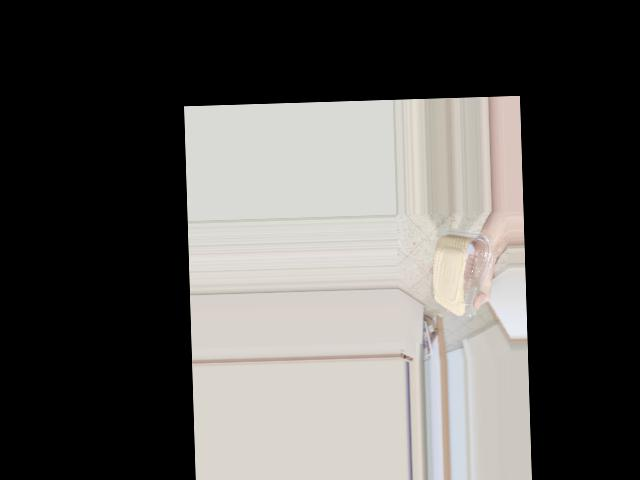cheese: (438, 223, 478, 299)
